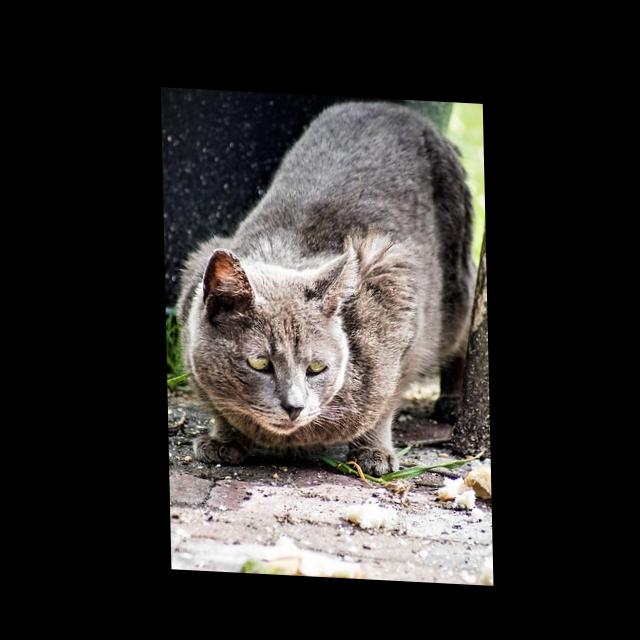animals: (172, 89, 477, 471)
